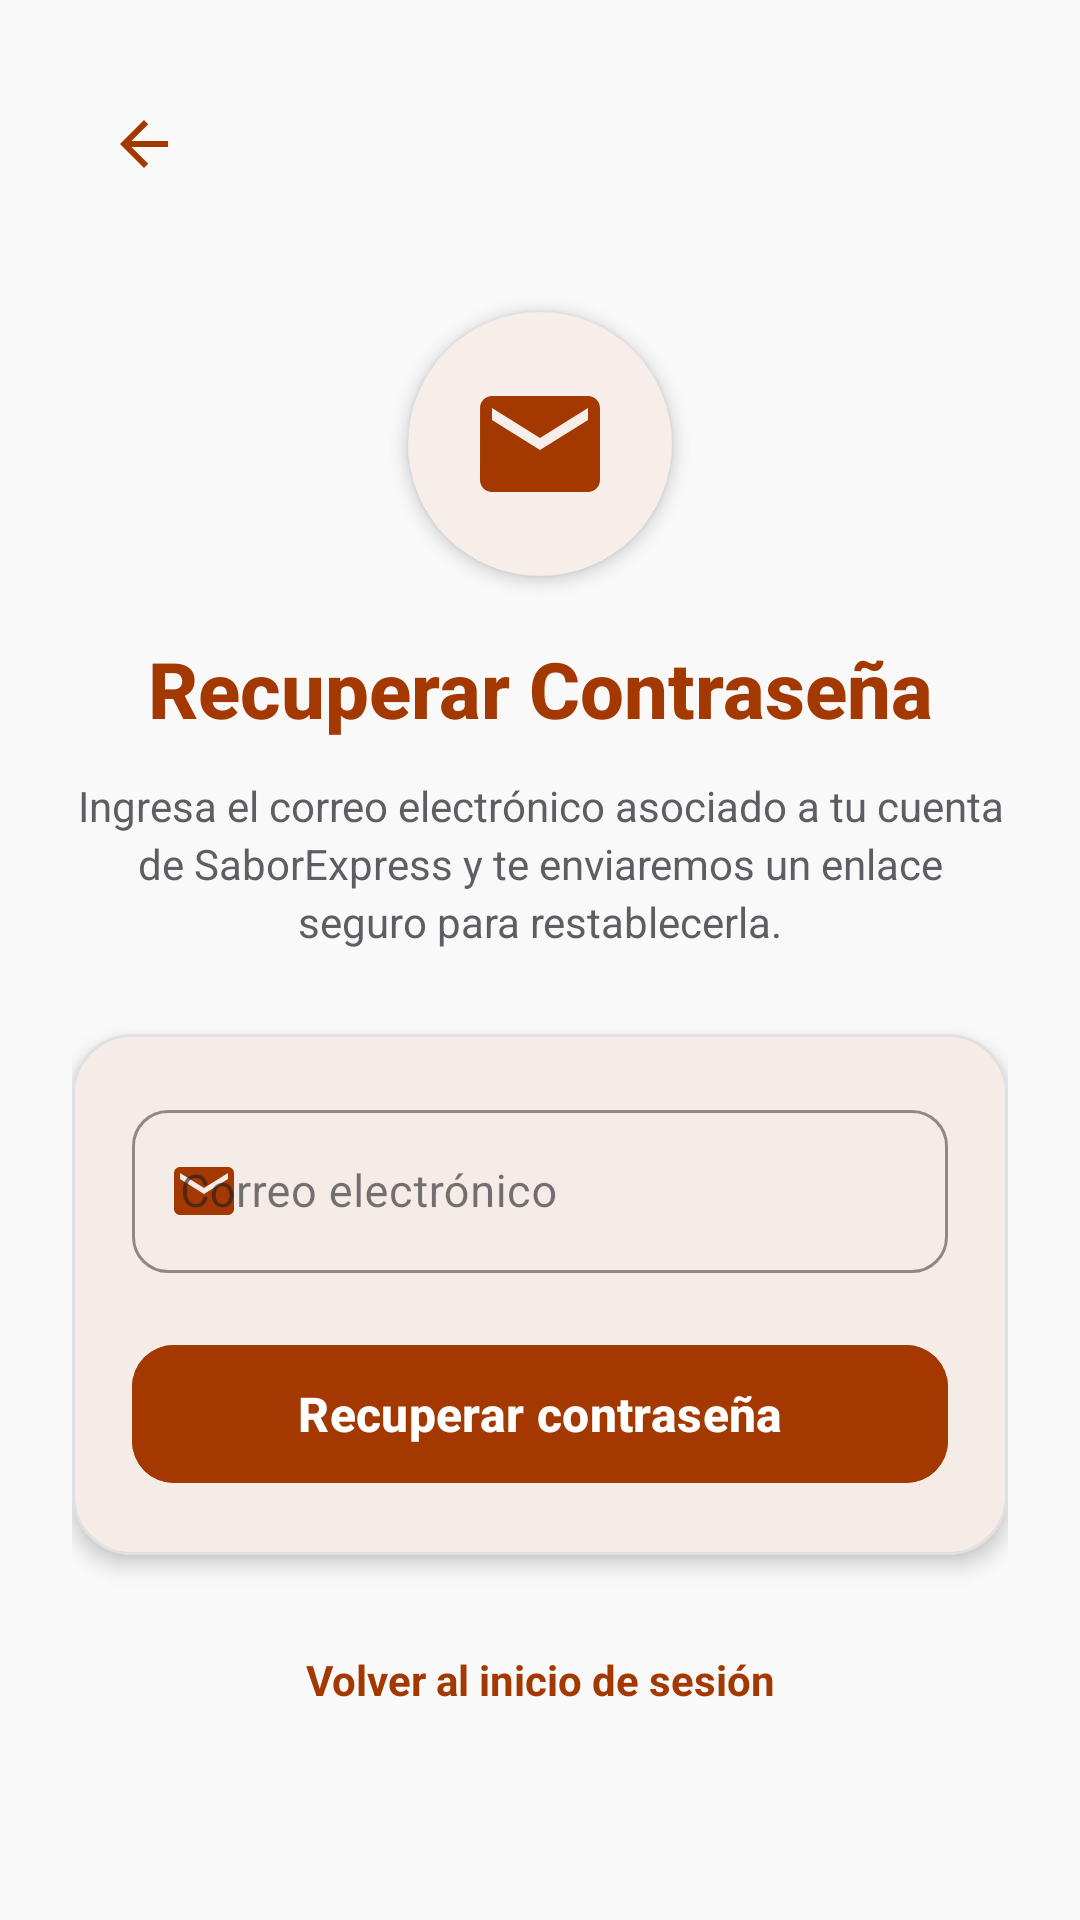

Locate icon controls on the screen. Image size 1080x1920, boxes as [x1=x1, y1=y1, x2=x2, y2=y2].
Regresar a la pantalla anterior: [x1=120, y1=120, x2=168, y2=168]
Ícono de correo: [x1=480, y1=396, x2=600, y2=492]
